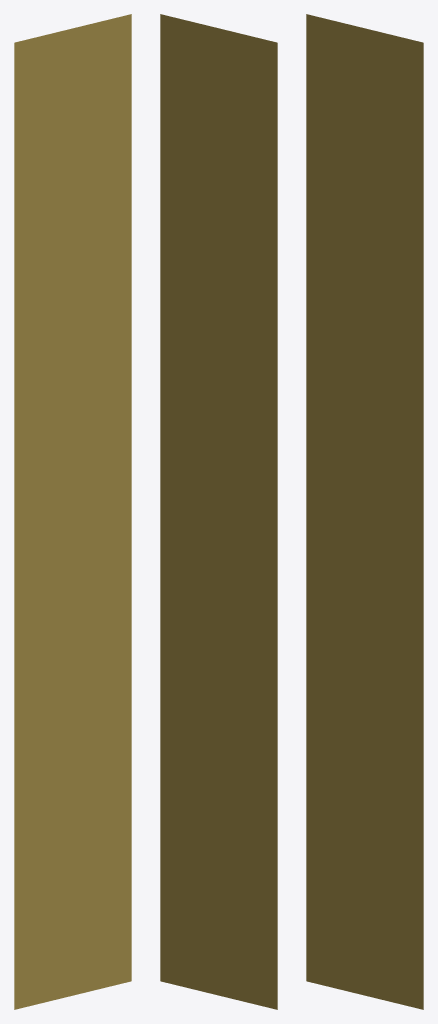
Rendered from stage_6_senescence.gltf.
3 renders of one model, left to right at view 1: azimuth 30°, elevation 25°; view 2: azimuth 150°, elevation 25°; view 3: azimuth 330°, elevation 25°, orthographic.
Parts seen in each view (by area): view 1: plant_stage_6; view 2: plant_stage_6; view 3: plant_stage_6.
Part boxes in pixels (x1,y1,x2,y2): plant_stage_6: (14, 14, 131, 1009); plant_stage_6: (160, 14, 277, 1009); plant_stage_6: (306, 14, 423, 1009).
Size of the model in its own units: 0.28 by 2.2 by 0.
